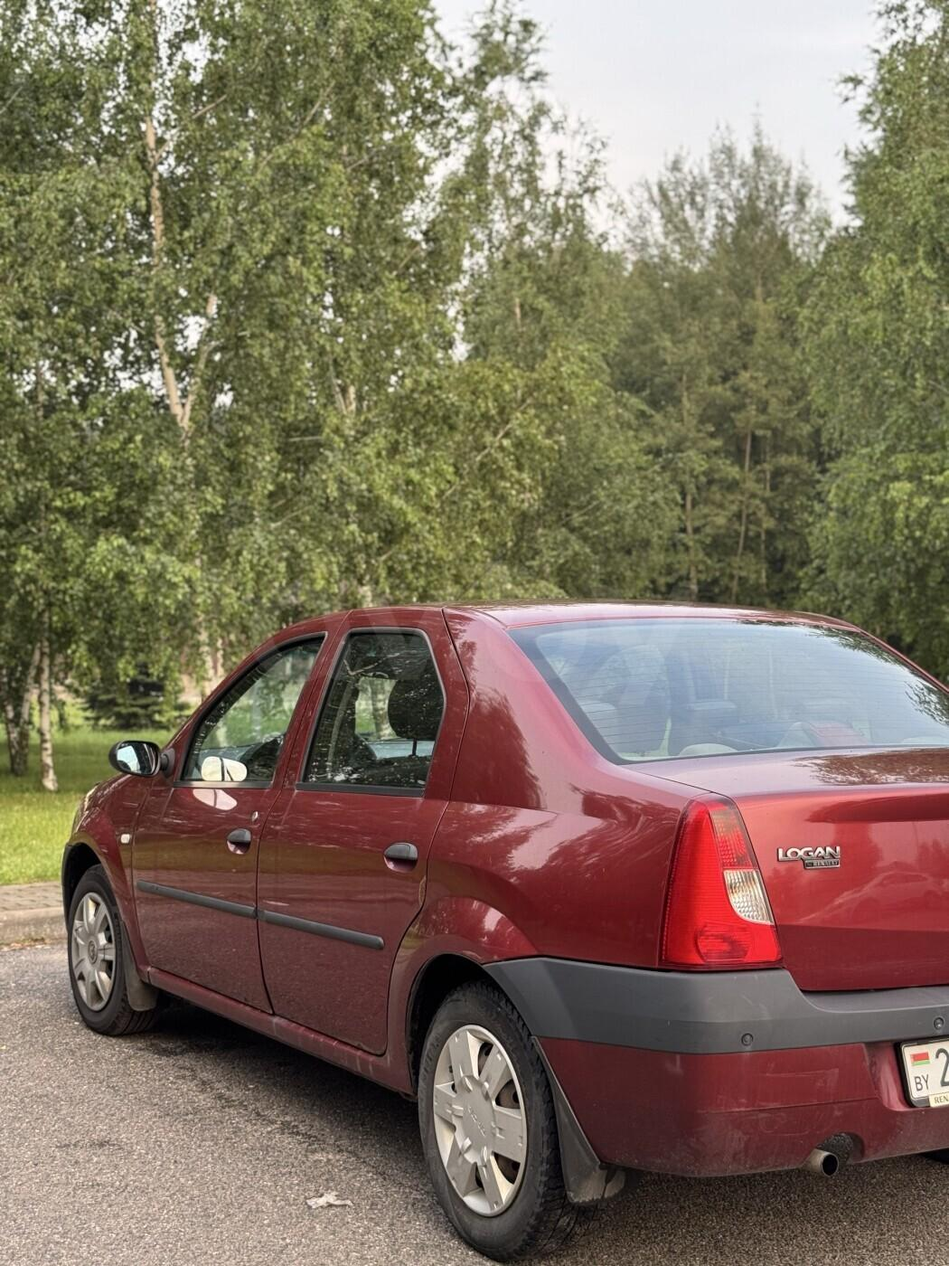Logan_2004-2009: (47, 593, 949, 1255)
